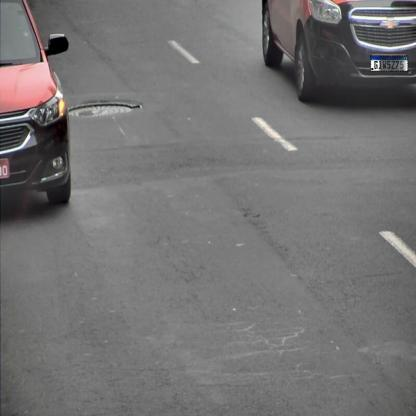PlacaM: (370, 56, 408, 72)
